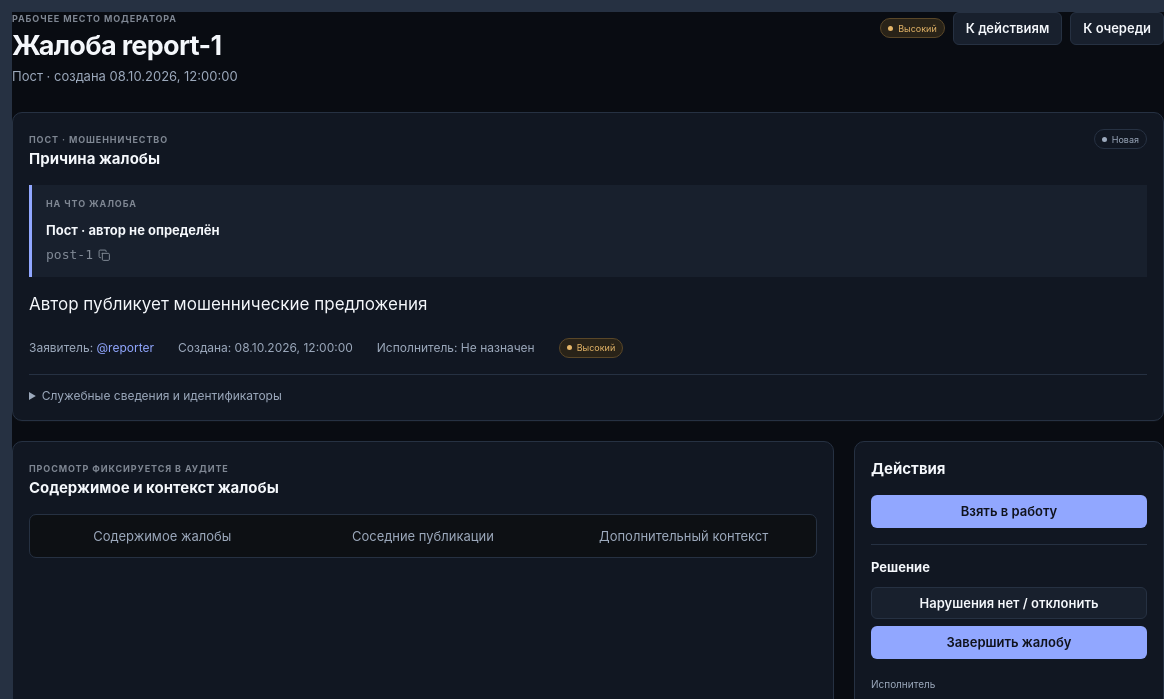
Test: moderator workbench › shows the target and description while keeping private context behind an audited request
The image size is (1164, 699).
Check: the text "Автор публикует мошеннические предложения" is shown, box [29,294,427,314]
Check: the text "Пост · Мошенничество" is shown, box [29,134,168,145]
Click the button "Содержимое жалобы".
click(162, 536)  # box [34,519,291,553]
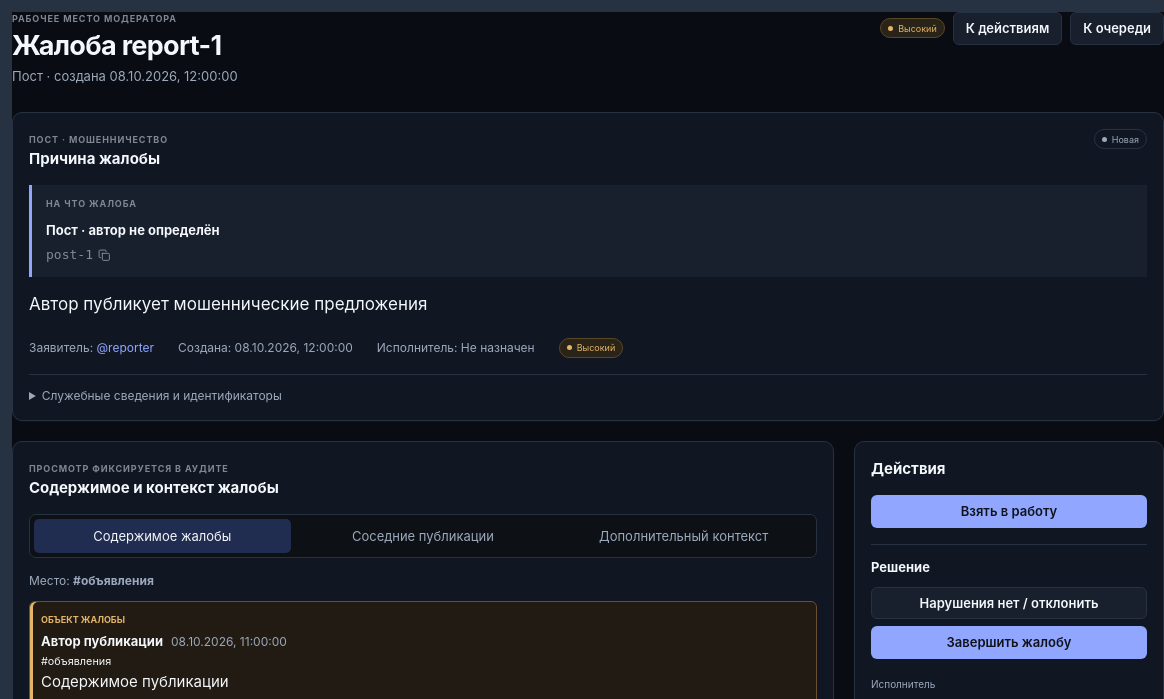
Check: the text "Содержимое публикации" is shown, box [41,672,229,691]
Check: the text "Автор публикации" is shown, box [41,632,163,651]
Check: the element with class "context-location" shows "#объявления", box [73,573,154,588]
